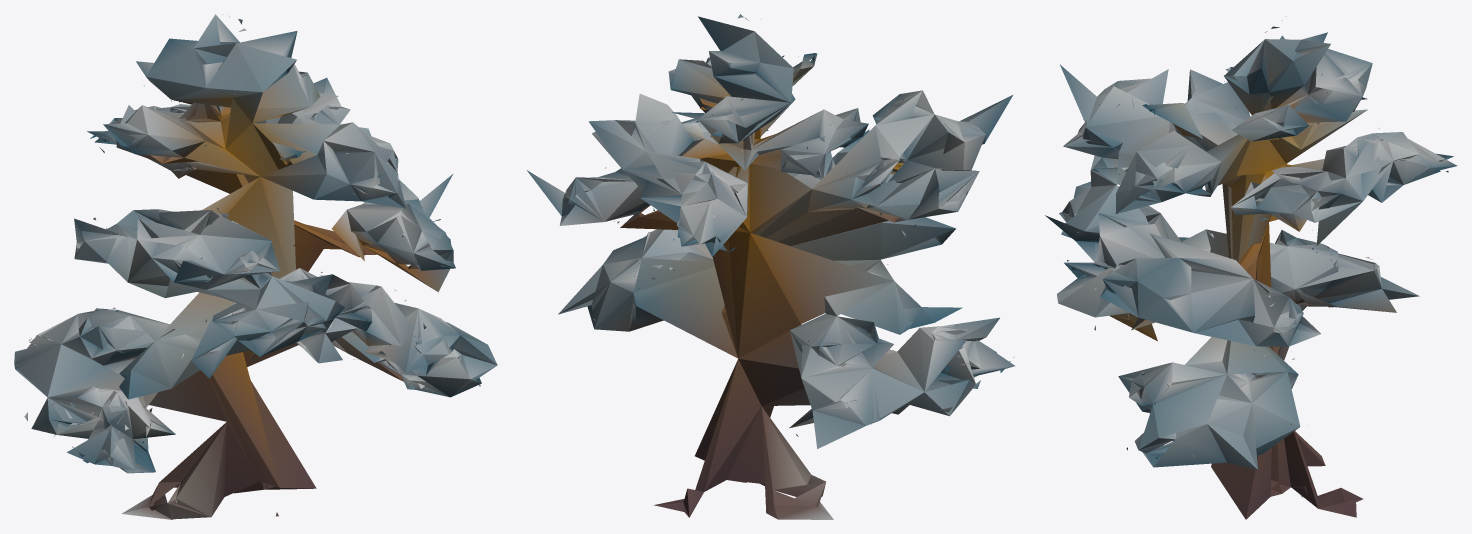
File: pine_lod.glb
3 renders of one model, left to right at view 1: azimuth 30°, elevation 25°; view 2: azimuth 150°, elevation 25°; view 3: azimuth 270°, elevation 25°, orthographic.
Parts seen in each view (by area): view 1: pine_lod; view 2: pine_lod; view 3: pine_lod.
Boxes of the visible parts, box(x1,y1,x2,y2) form: pine_lod: box(14, 14, 497, 519); pine_lod: box(527, 14, 1014, 519); pine_lod: box(1045, 16, 1457, 519).
Size of the model in its own units: 1.18 by 1.23 by 0.9731.
